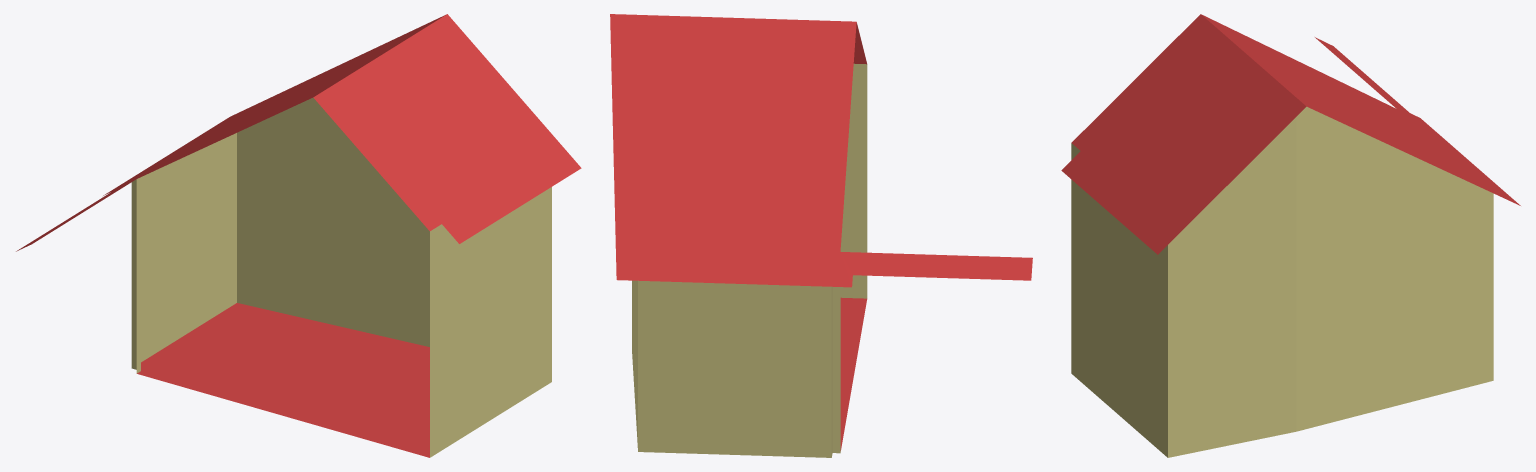
The picture shows the model from 3 angles, left to right: view 1: azimuth 30°, elevation 25°; view 2: azimuth 150°, elevation 25°; view 3: azimuth 270°, elevation 25°; orthographic projection. The views are drawn at different scales.
Bounding box in the file's own units: 19.61 × 15.94 × 12.73.
